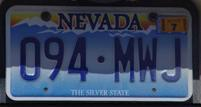placa de veiculo: (4, 3, 193, 101)
